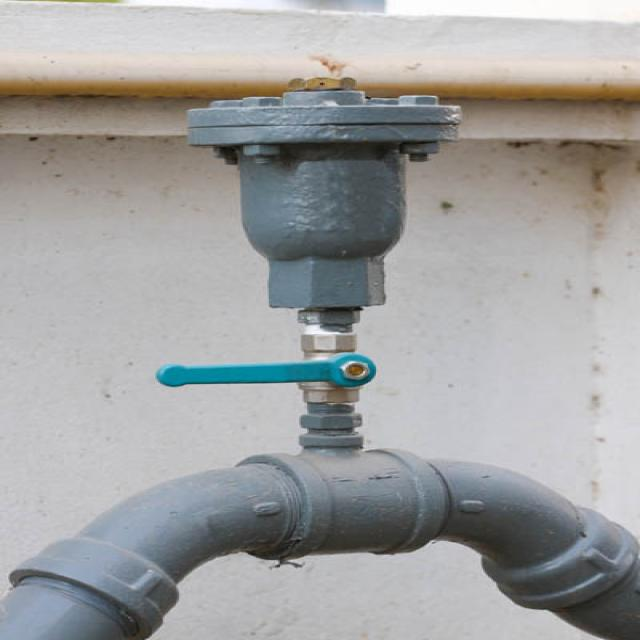Lever Handle Valve Threaded: (158, 308, 378, 448)
